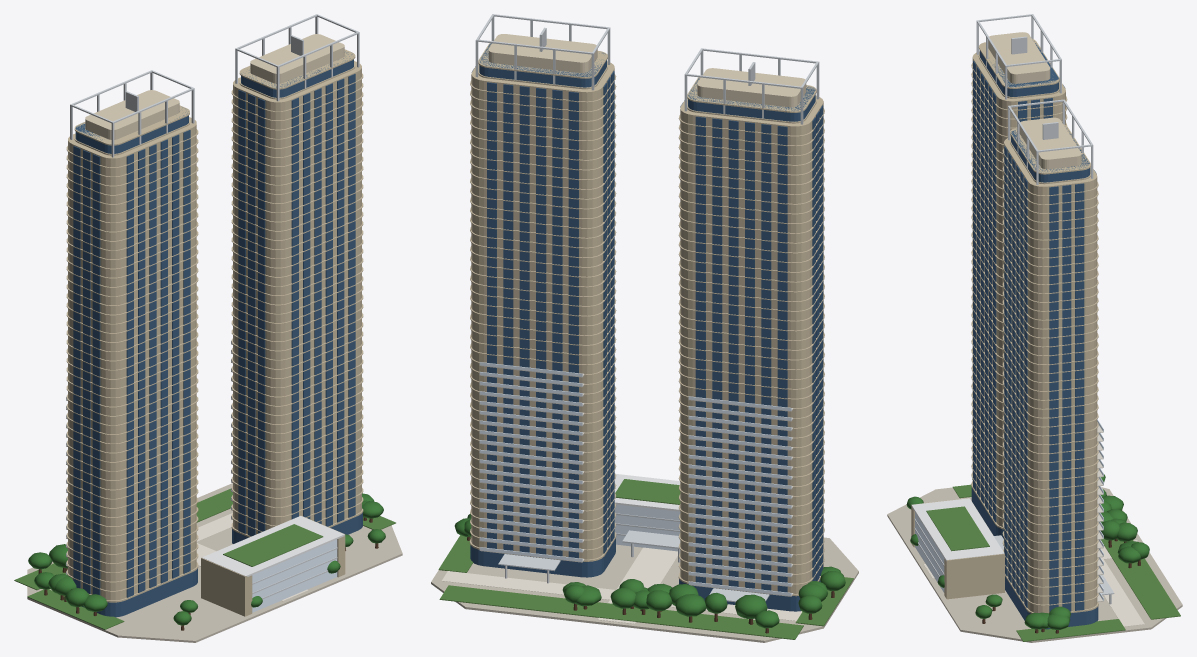
The model's file is acro-seoul-forest.glb.
3 views of the same model, side by side, from view 1: azimuth 30°, elevation 25°; view 2: azimuth 150°, elevation 25°; view 3: azimuth 270°, elevation 25° (orthographic). The views are drawn at different scales.
Size of the model in its own units: 148 by 200 by 111.
